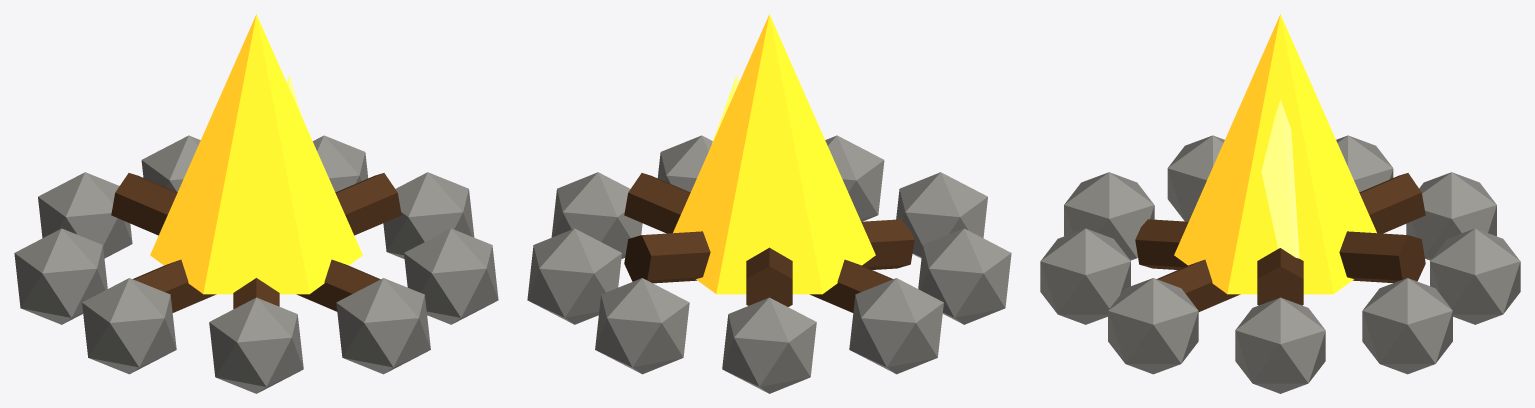
File: ognisko.glb
The picture shows the model from 3 angles, left to right: view 1: azimuth 30°, elevation 25°; view 2: azimuth 150°, elevation 25°; view 3: azimuth 270°, elevation 25°; orthographic projection.
Visible parts, largest first — view 1: ognisko; view 2: ognisko; view 3: ognisko.
Boxes of the visible parts, x1=… form: ognisko: x1=14, y1=14, x2=498, y2=393; ognisko: x1=527, y1=14, x2=1011, y2=393; ognisko: x1=1040, y1=14, x2=1520, y2=393.
Size of the model in its own units: 0.6295 by 0.43 by 0.6312.
